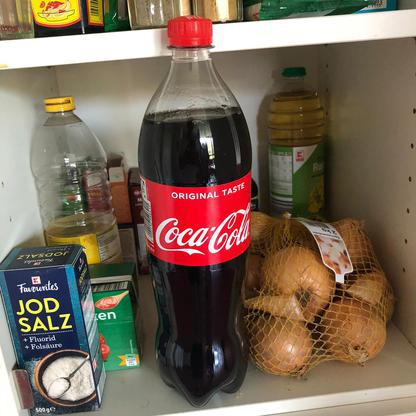coca-cola: (136, 12, 253, 410)
